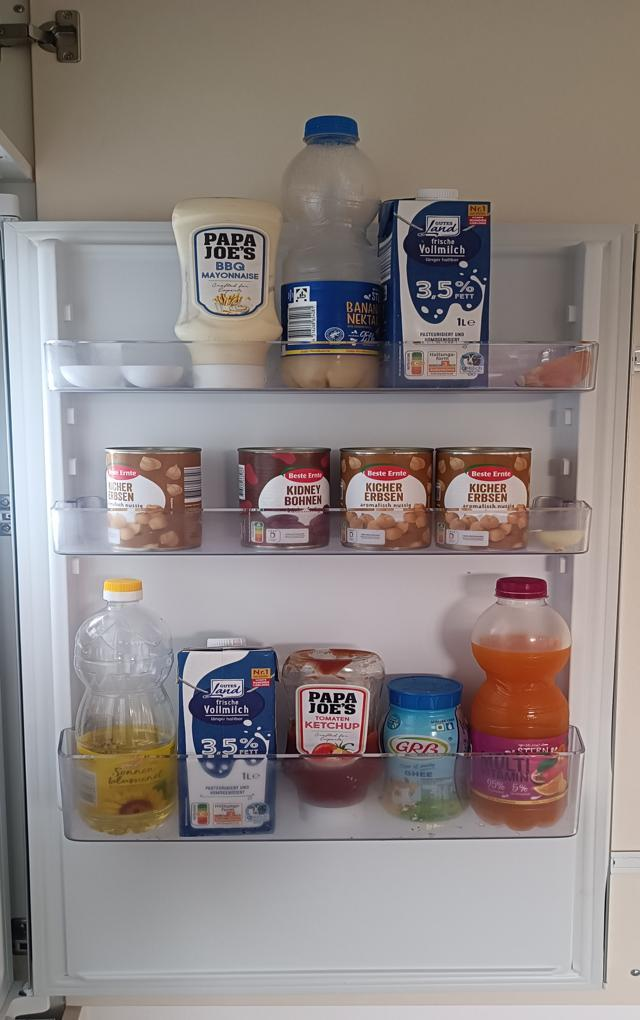bananajuice: (281, 113, 384, 390)
chickpeas: (106, 446, 204, 553), (437, 448, 531, 547), (340, 448, 432, 548)
ghee: (379, 674, 470, 820)
kidneybeans: (235, 448, 331, 551)
mayoniasie: (173, 199, 284, 391)
milk: (384, 187, 493, 391), (176, 637, 280, 840)
oil: (70, 576, 173, 834)
orangejuice: (469, 577, 574, 831)
tomatoketchup: (283, 646, 383, 827)
